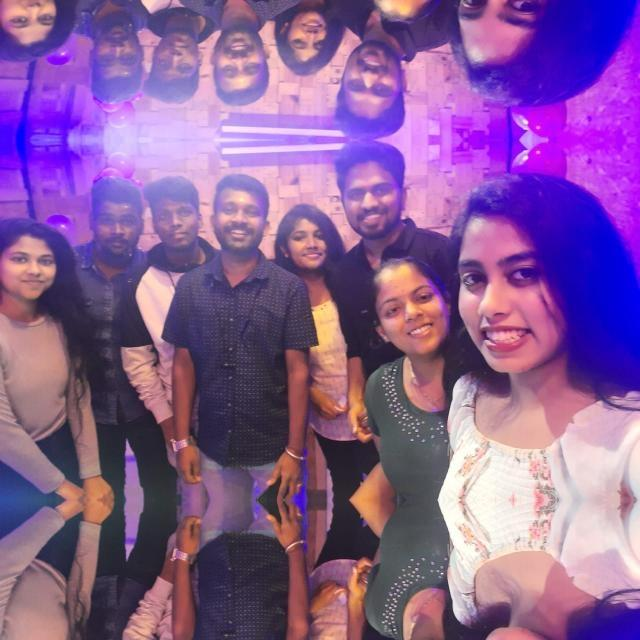person: (456, 172, 640, 500), (185, 162, 289, 460), (456, 500, 640, 640), (358, 254, 467, 466), (0, 213, 84, 477), (456, 0, 640, 107), (68, 164, 154, 373), (277, 195, 361, 391), (336, 140, 449, 262), (336, 18, 449, 140), (185, 0, 289, 118), (357, 534, 466, 640), (185, 539, 289, 640), (0, 523, 84, 640), (68, 0, 153, 115), (143, 166, 205, 288), (277, 0, 361, 85), (143, 0, 205, 113), (0, 0, 84, 67), (357, 0, 466, 25), (277, 609, 361, 640), (68, 626, 153, 640)
